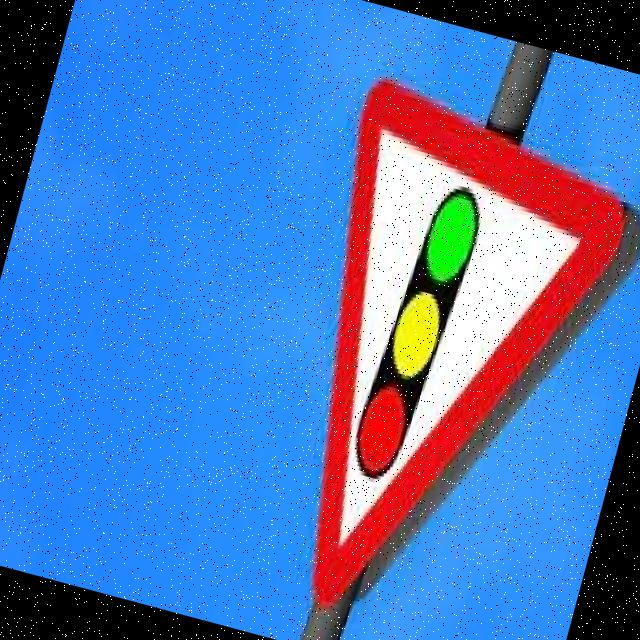light_traffic: (227, 73, 640, 640)
